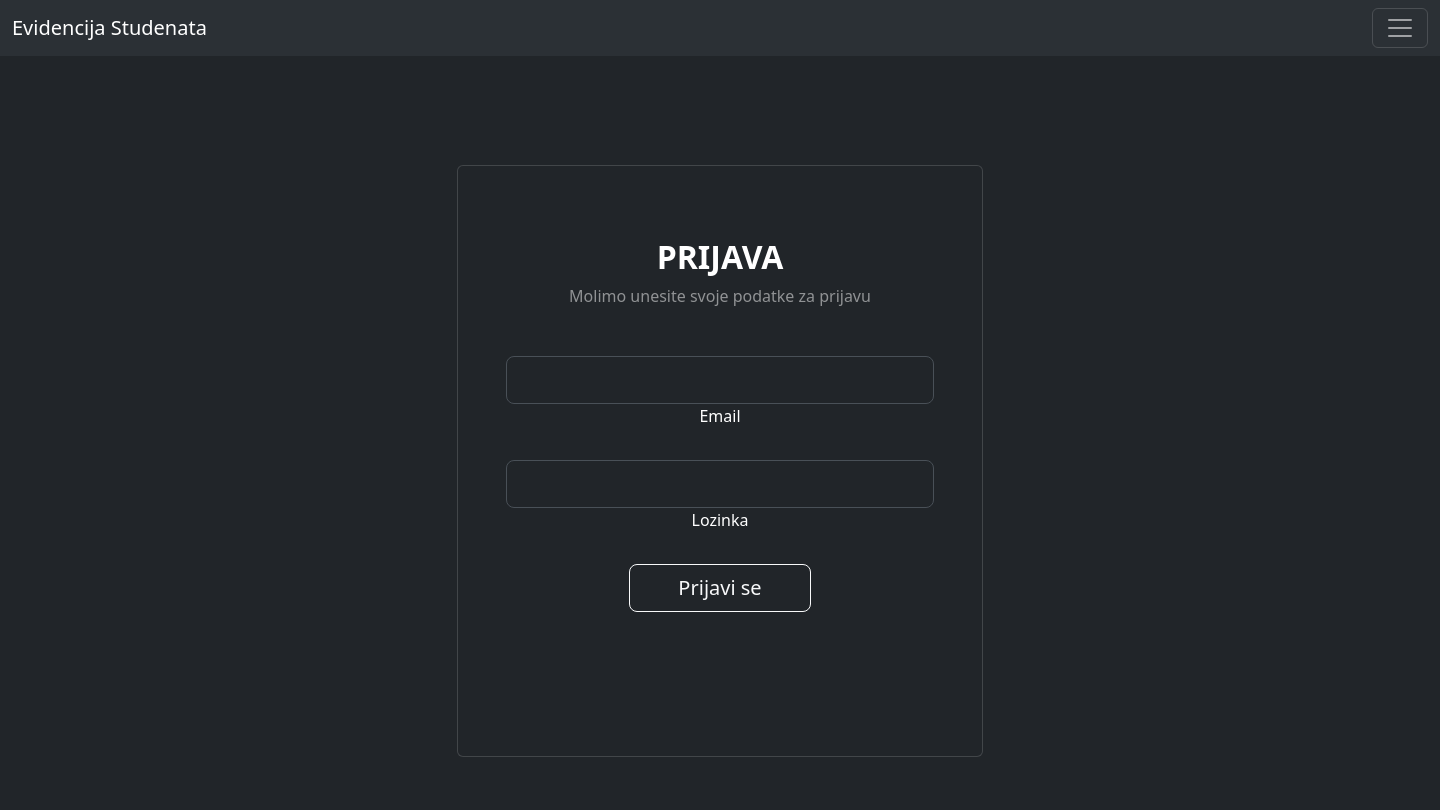
Test: PrijavaPage › unsuccessful login shows error message
This screenshot has width=1440, height=810.
In the field labelled "Email": coordinates (720, 380) [506,356,934,404], type "wrong@example.com"
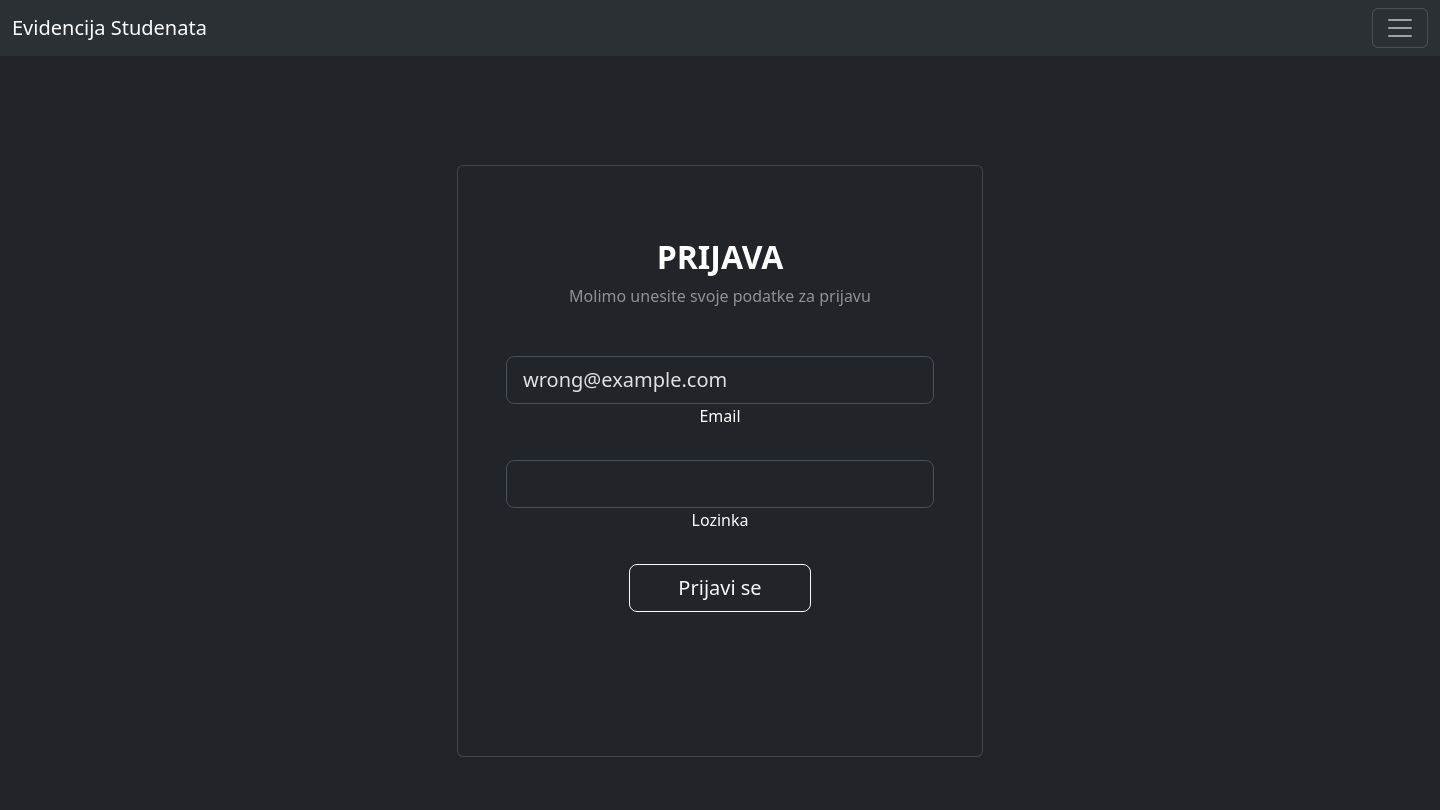
In the password field labelled "Lozinka": coordinates (720, 484) [506,460,934,508], type "wrongpassword"
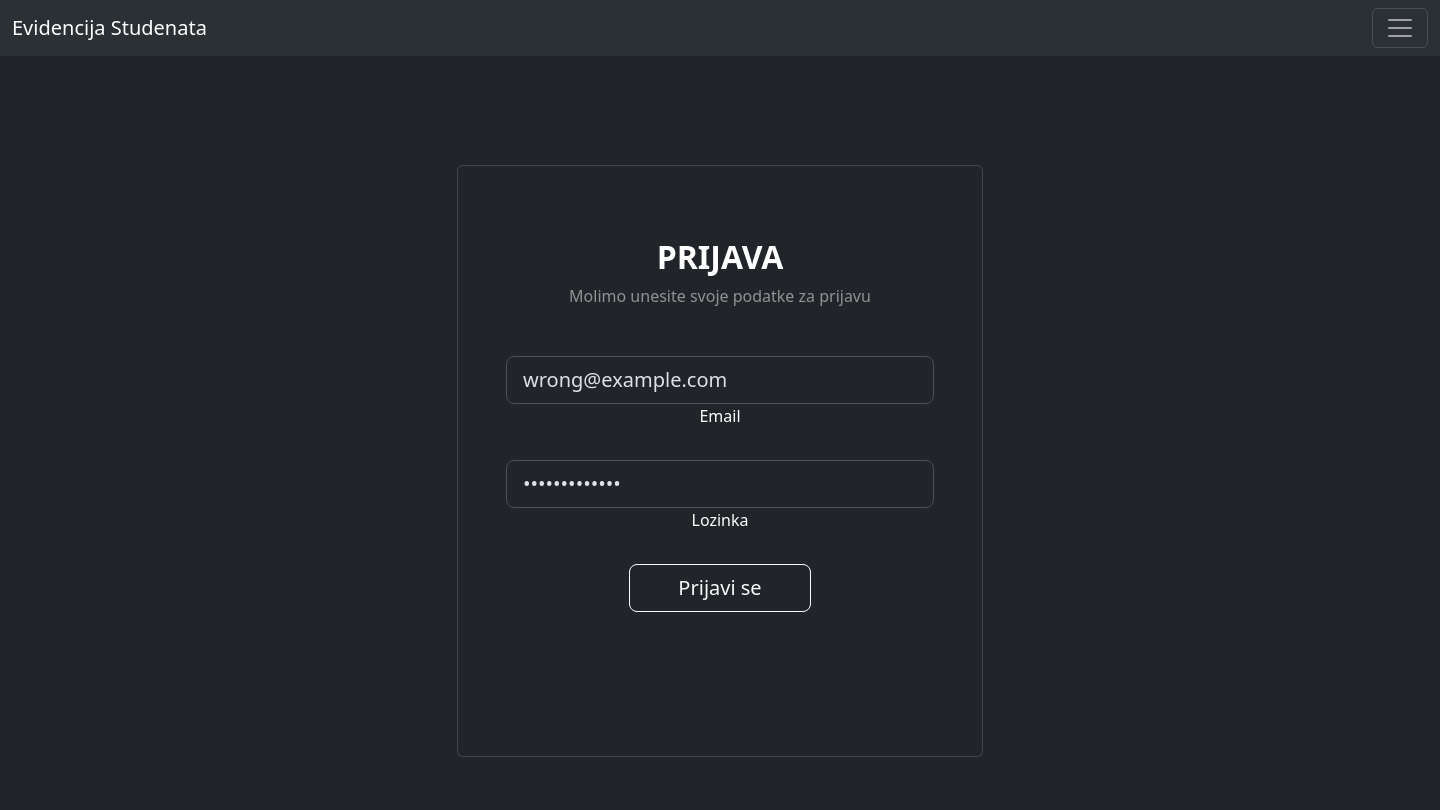
Click the button "Prijavi se": coordinates (720, 588) [629,564,811,612]
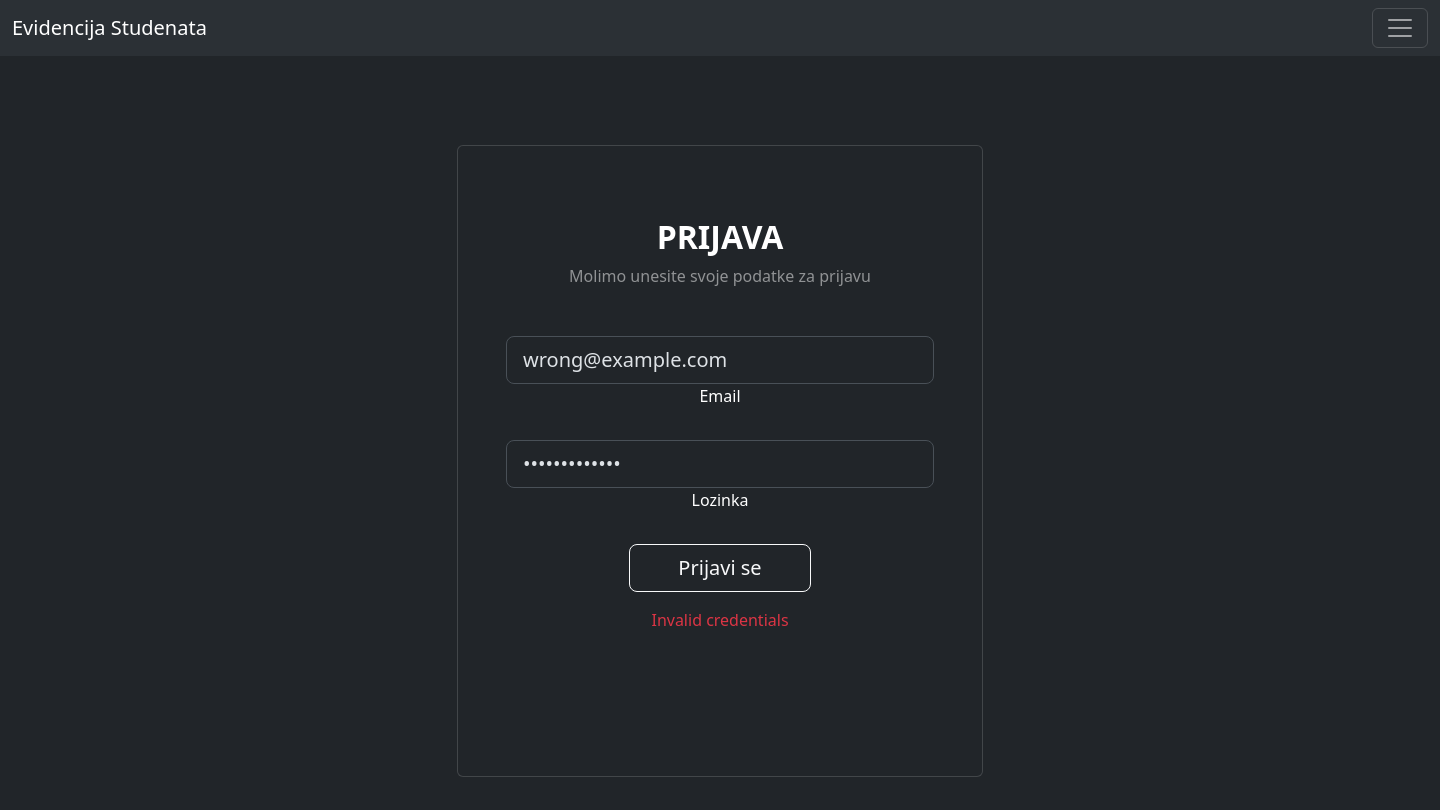
Expected: the text "Invalid credentials" is shown, [652,609,789,631]
